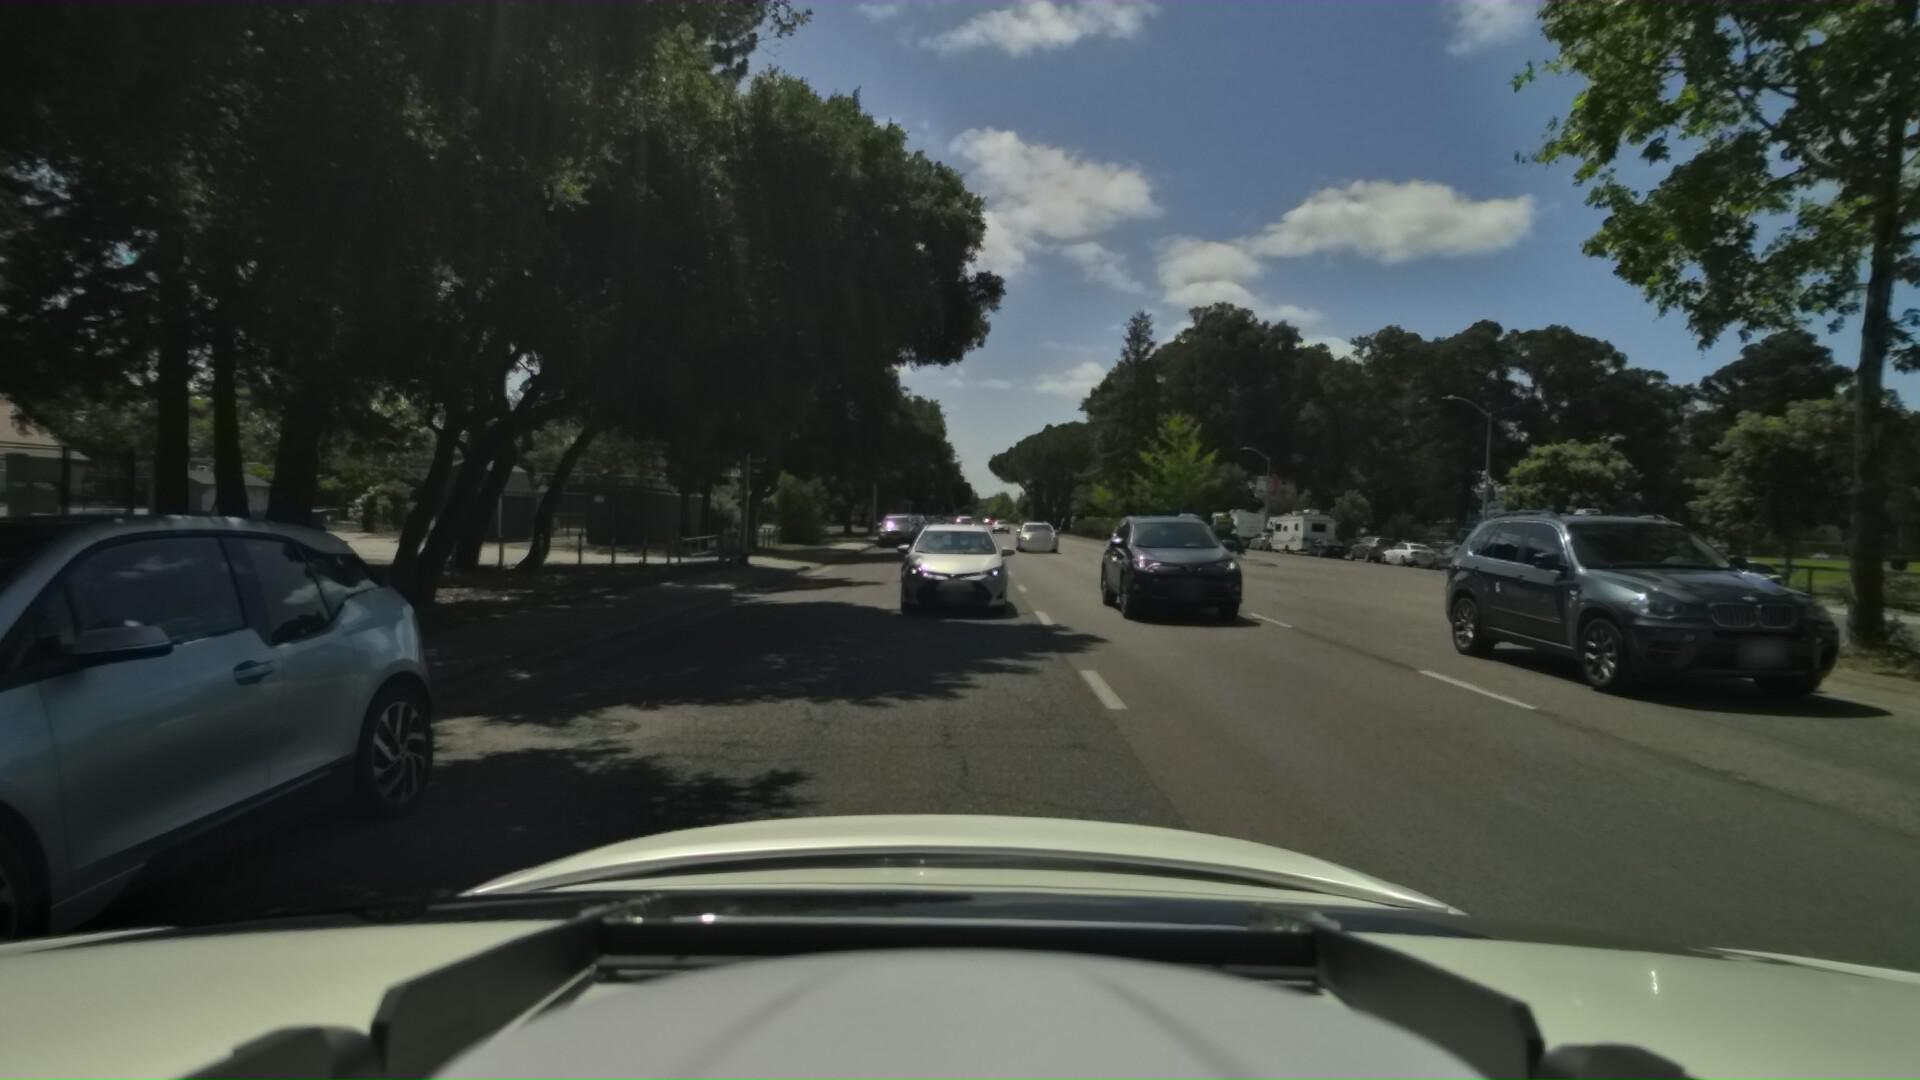car: (1381, 500, 1767, 695), (1084, 505, 1228, 612), (885, 513, 1007, 618), (1650, 549, 1785, 605), (1367, 533, 1435, 566), (1338, 529, 1396, 563), (874, 506, 920, 547), (1011, 514, 1056, 551), (1298, 531, 1346, 556), (891, 508, 928, 541), (1242, 526, 1279, 549), (949, 516, 977, 541)
other_vehicle: (1490, 501, 1658, 591), (1255, 501, 1336, 555)
